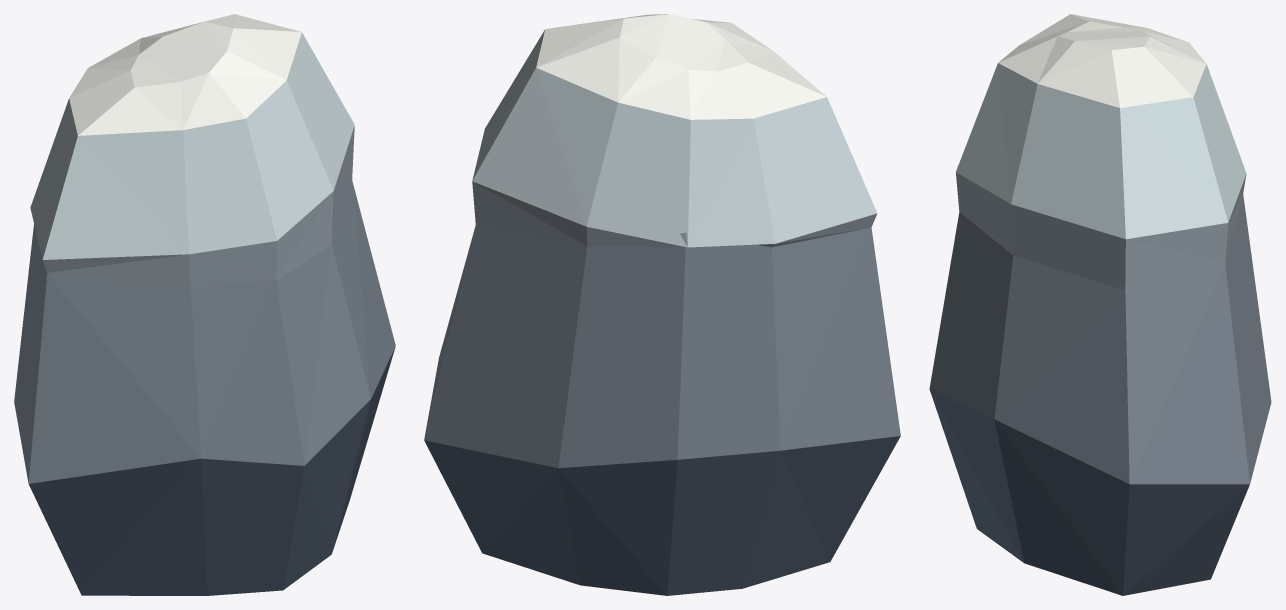
The model's file is StandingStone.fbx.
The picture shows the model from 3 angles, left to right: view 1: azimuth 30°, elevation 25°; view 2: azimuth 150°, elevation 25°; view 3: azimuth 270°, elevation 25°; orthographic projection. The views are drawn at different scales.
Parts seen in each view (by area): view 1: StandingStone; view 2: StandingStone; view 3: StandingStone.
Part boxes in pixels (x1=…): StandingStone: x1=14, y1=14, x2=395, y2=595; StandingStone: x1=424, y1=14, x2=900, y2=595; StandingStone: x1=929, y1=14, x2=1271, y2=595.
Bounding box in the file's own units: 1.91 × 2.25 × 1.43.
1 material, 1 textured.
